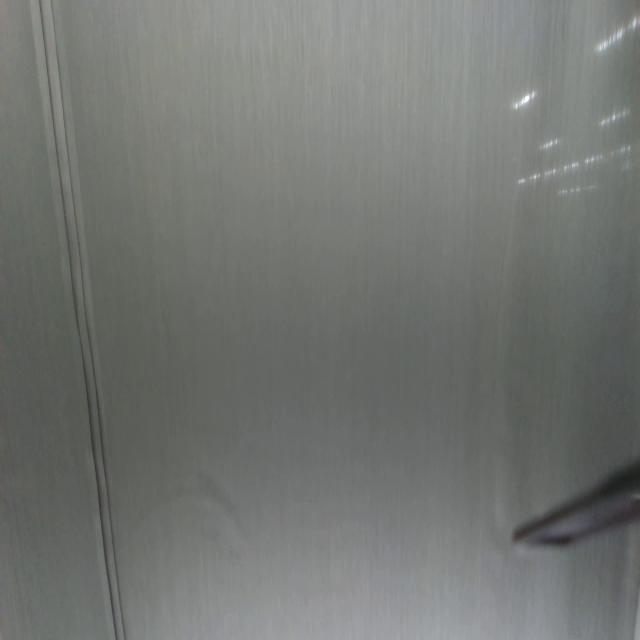crease: (30, 0, 130, 640)
